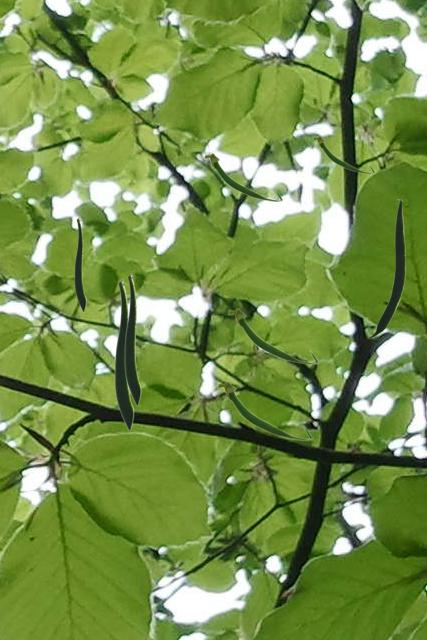french_bean: (216, 380, 312, 440), (227, 307, 318, 364), (367, 199, 404, 337), (203, 152, 282, 201), (114, 279, 133, 430), (312, 135, 374, 173), (124, 273, 140, 405), (74, 217, 85, 311)
